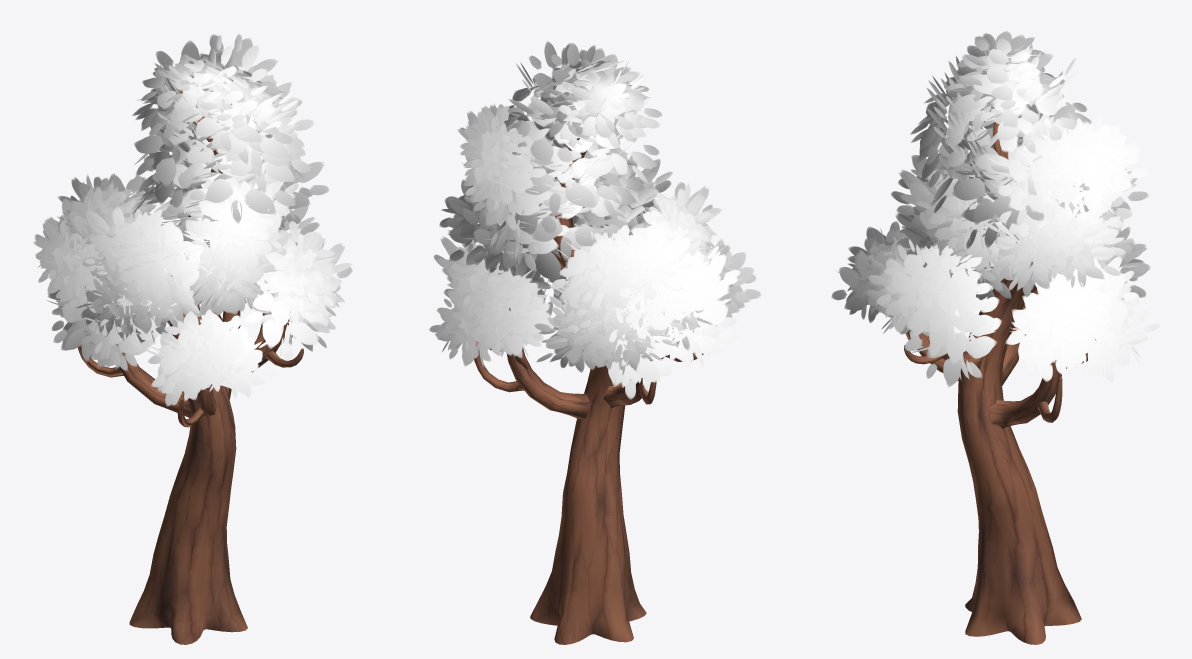
Rendered from tree-2.glb.
3 views of the same model, side by side, from view 1: azimuth 30°, elevation 25°; view 2: azimuth 150°, elevation 25°; view 3: azimuth 270°, elevation 25° (orthographic). The views are drawn at different scales.
Visible parts, largest first — view 1: tree_024; view 2: tree_024; view 3: tree_024.
Boxes of the visible parts, <box> form: tree_024: <box>33,34,352,644</box>; tree_024: <box>429,41,761,644</box>; tree_024: <box>831,31,1159,644</box>.
Bounding box in the file's own units: 4.46 × 7.64 × 4.28.
Materials: 2 (2 with a texture image).
